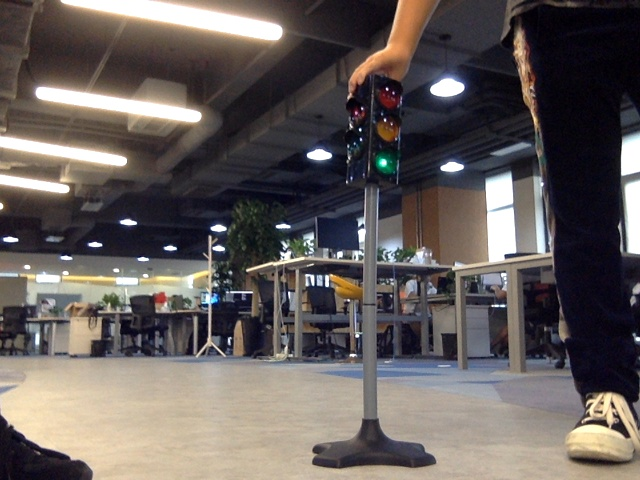green: (373, 84, 398, 179)
